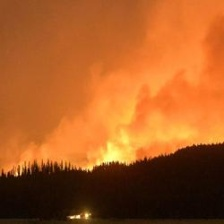fire: (78, 148, 152, 168), (64, 204, 96, 221)
